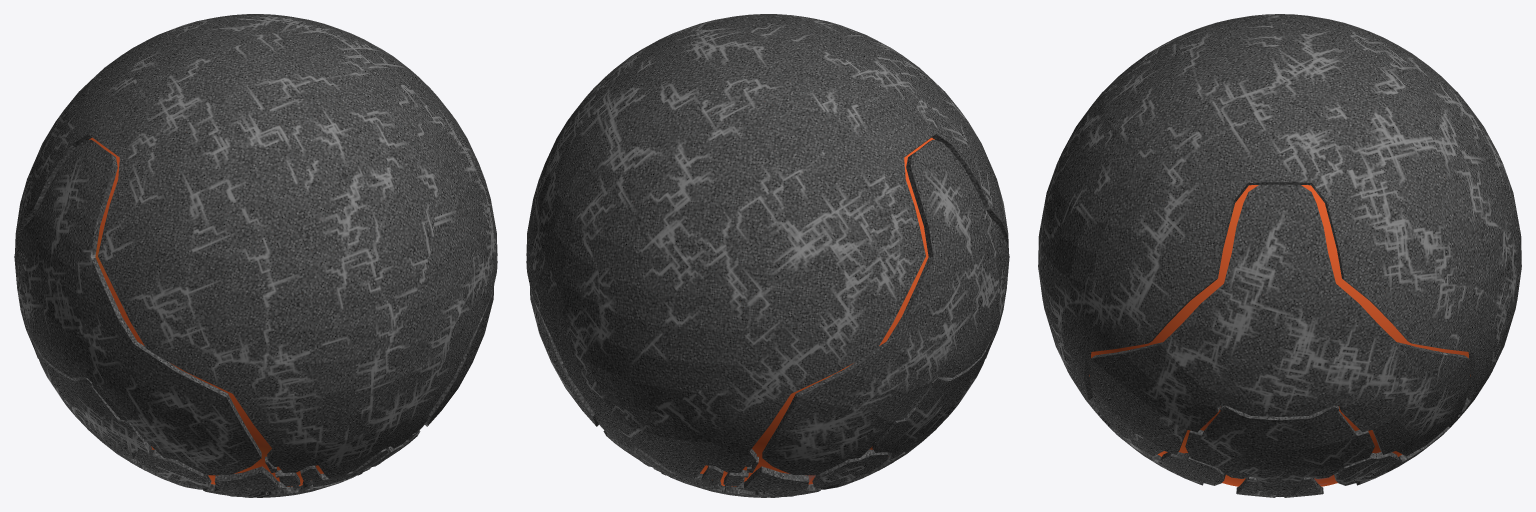
File: Cryptum.fbx
3 renders of one model, left to right at view 1: azimuth 30°, elevation 25°; view 2: azimuth 150°, elevation 25°; view 3: azimuth 270°, elevation 25°, orthographic.
Visible parts, largest first — view 1: cryp; view 2: cryp; view 3: cryp.
Part boxes in pixels (bbox=[...]): cryp: bbox=[14, 14, 497, 497]; cryp: bbox=[526, 14, 1009, 497]; cryp: bbox=[1038, 14, 1521, 497].
Bounding box in the file's own units: 5.17 × 5.16 × 5.17.
Materials: 1 (1 with a texture image).
